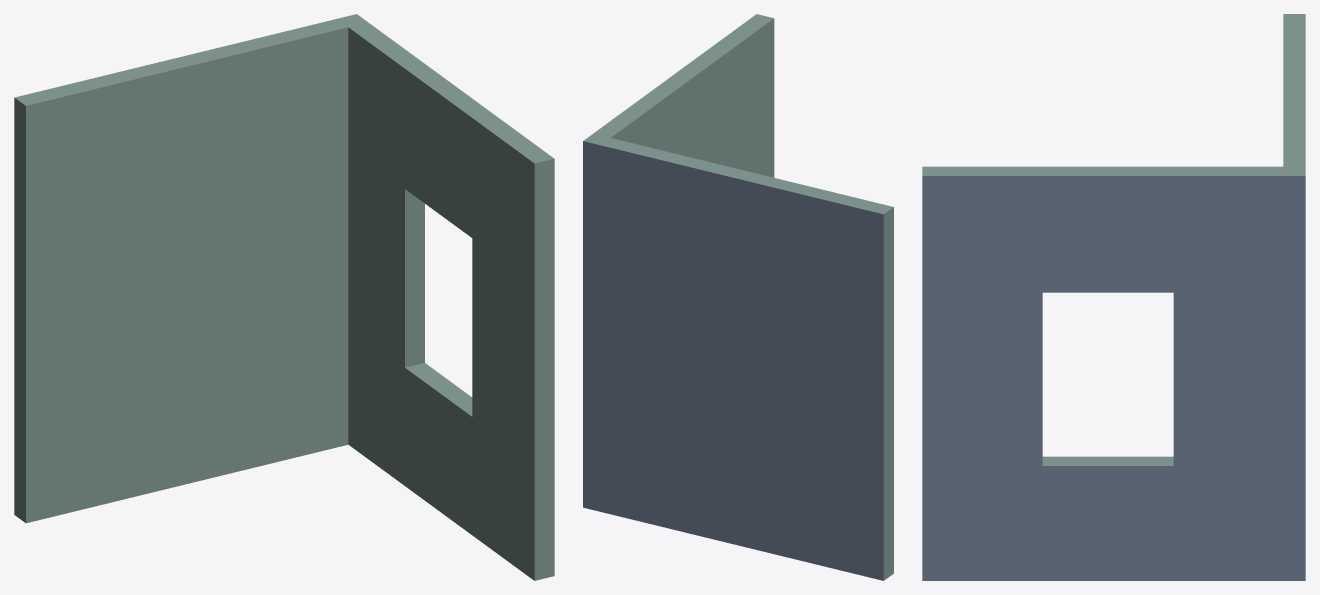
File: Wall3_C5_08.fbx
The picture shows the model from 3 angles, left to right: view 1: azimuth 30°, elevation 25°; view 2: azimuth 150°, elevation 25°; view 3: azimuth 270°, elevation 25°; orthographic projection. The views are drawn at different scales.
Parts seen in each view (by area): view 1: Wall3_C5_08; view 2: Wall3_C5_08; view 3: Wall3_C5_08.
Boxes of the visible parts, x1,y1,x2,y2 form: Wall3_C5_08: [14, 14, 554, 580]; Wall3_C5_08: [583, 14, 893, 580]; Wall3_C5_08: [922, 14, 1305, 580].
Bounding box in the file's own units: 258 × 300 × 258.
